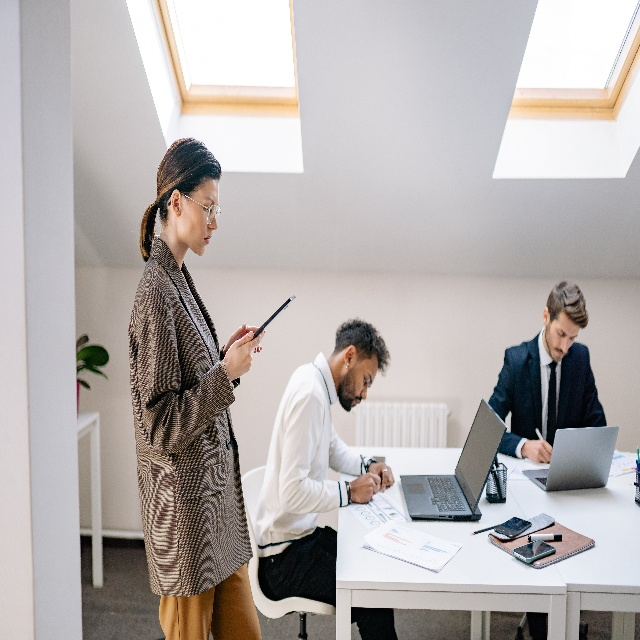Gafas: (167, 189, 221, 225)
Sin_guantes: (224, 328, 267, 378), (224, 319, 263, 358), (349, 472, 382, 504), (369, 461, 396, 494), (525, 438, 553, 467)
